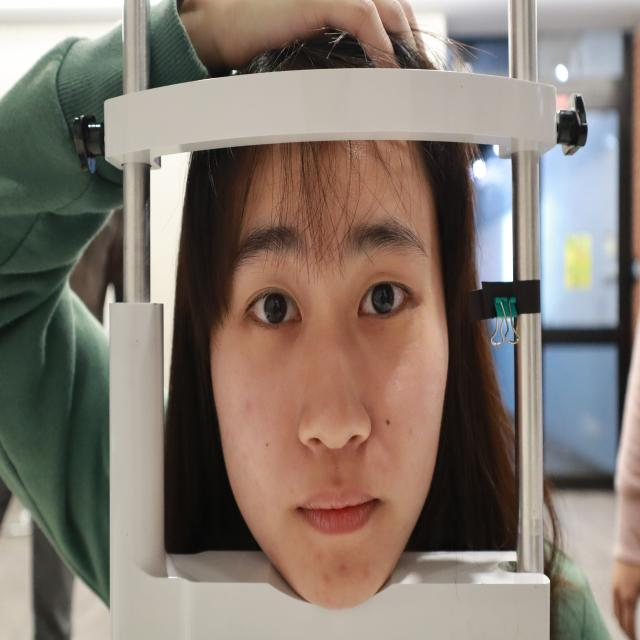eye: (355, 273, 416, 325), (244, 284, 309, 332)
gaze: (370, 280, 396, 316), (263, 292, 288, 325)
